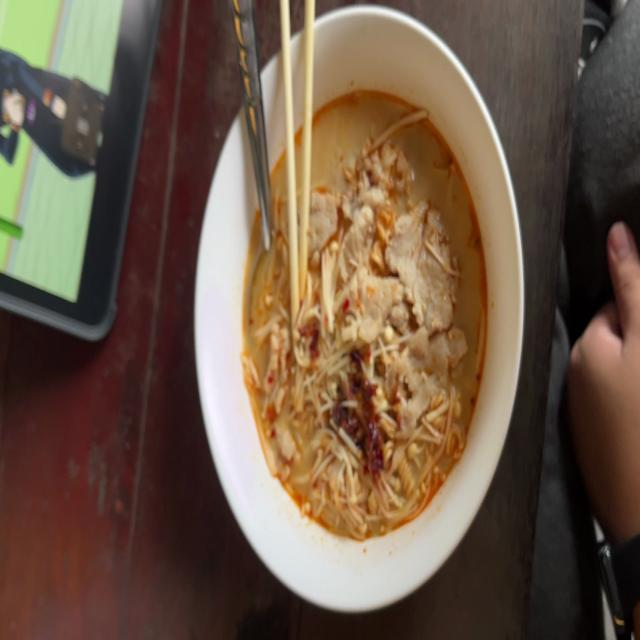noodle: (240, 68, 490, 564)
